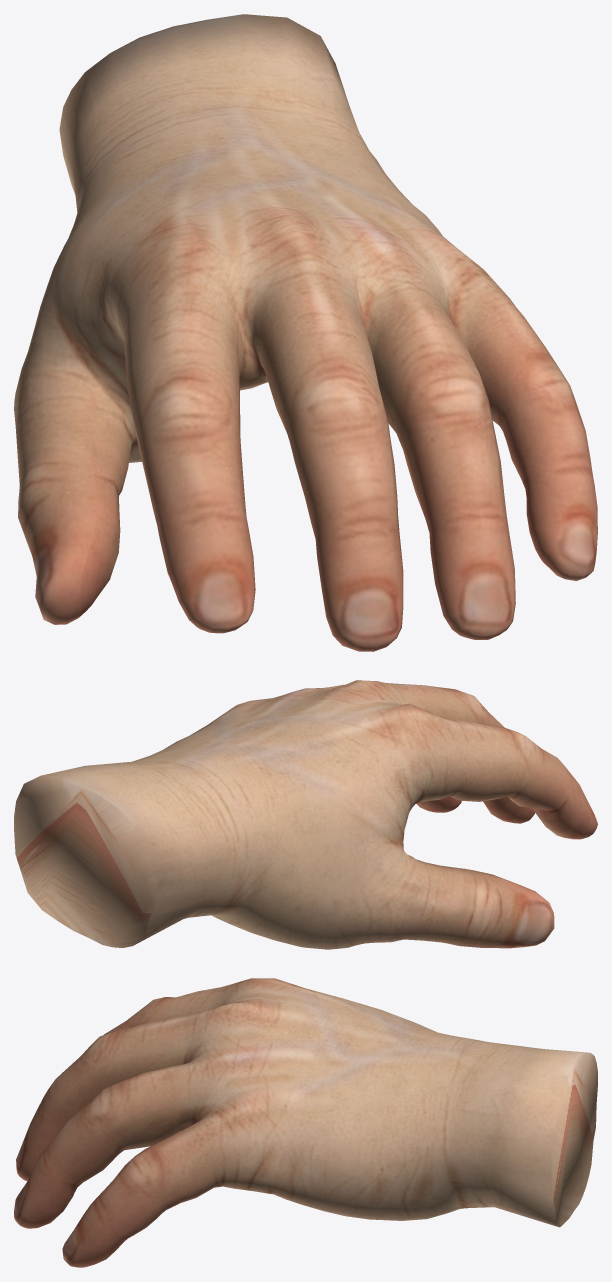
The picture shows the model from 3 angles, top to bottom: view 1: azimuth 30°, elevation 25°; view 2: azimuth 150°, elevation 25°; view 3: azimuth 270°, elevation 25°; orthographic projection. The views are drawn at different scales.
Parts seen in each view (by area): view 1: handlow__0; view 2: handlow__0; view 3: handlow__0.
Boxes of the visible parts, x1=… form: handlow__0: x1=14, y1=14, x2=597, y2=651; handlow__0: x1=14, y1=680, x2=597, y2=949; handlow__0: x1=14, y1=978, x2=597, y2=1267.
Size of the model in its own units: 0.6679 by 0.389 by 0.913.
1 material, 1 textured.
